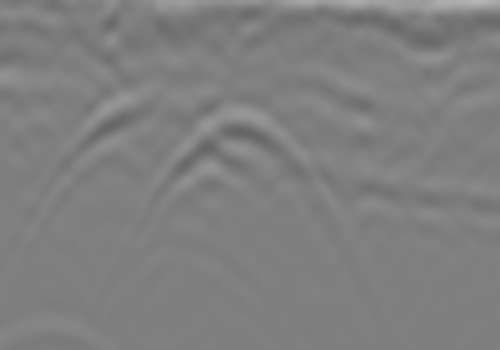hyperbola: (117, 101, 372, 316), (25, 90, 239, 267)
